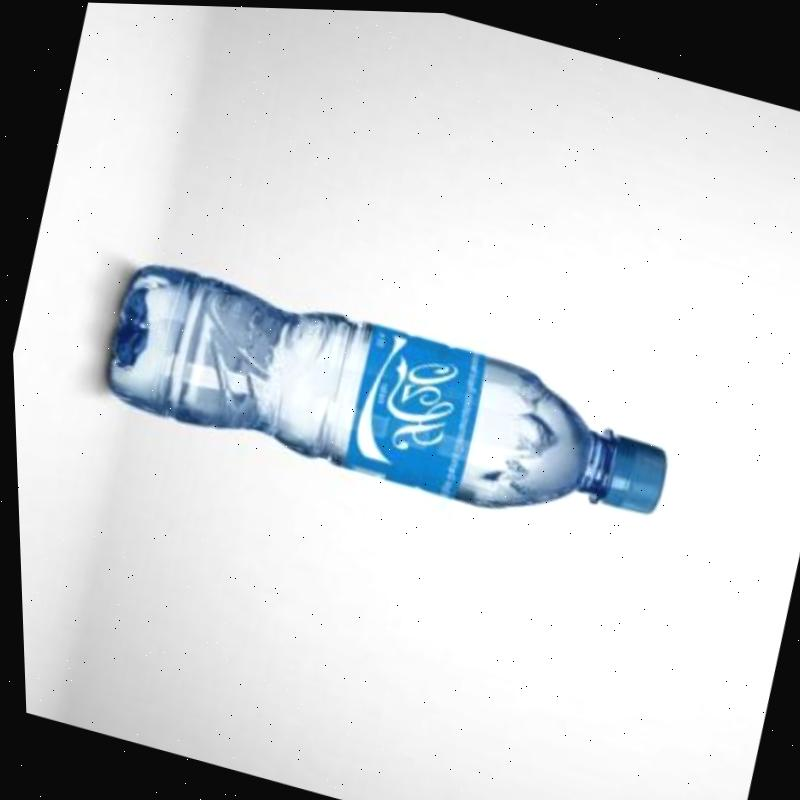botella: (82, 244, 687, 552)
